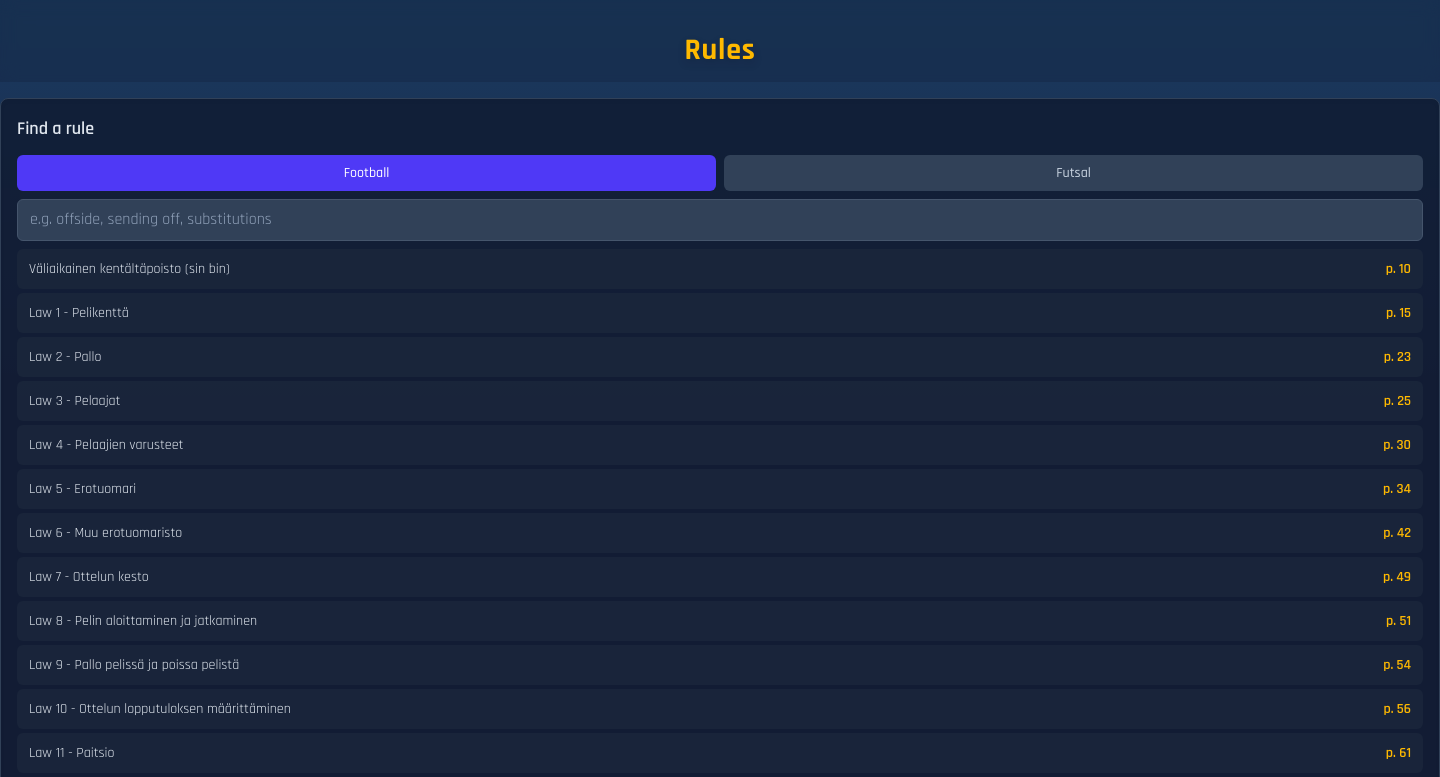
Test: RulesDirectoryModal › still shows the page number, which is now a promise it can keep
Type "paitsio" into the search field with test id "rules-search" at (720, 220), box [17,198,1423,240]
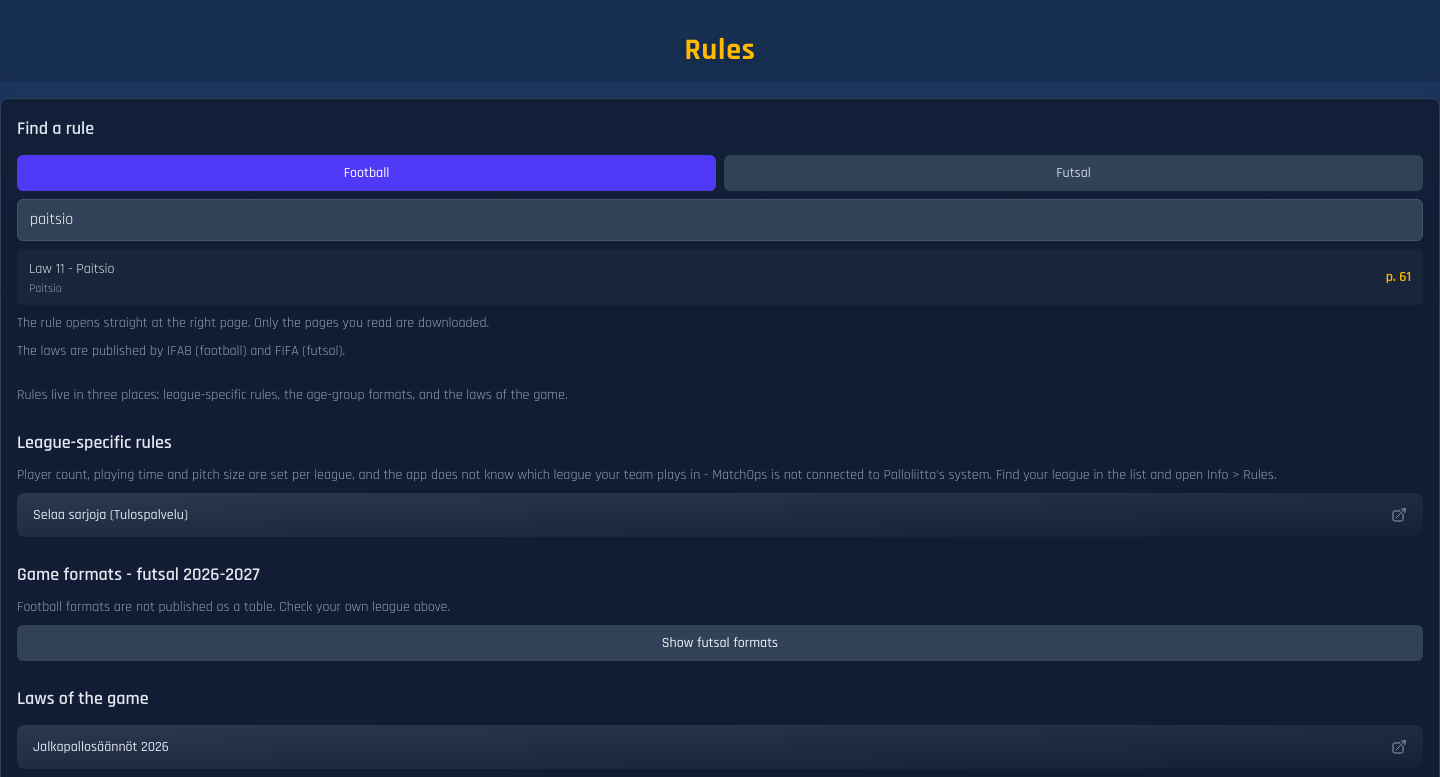
Expected: the text "p. 61" is shown, [1386,266,1411,286]
Result: the text "opens straight at the right page" is shown at [17,314,489,332]
